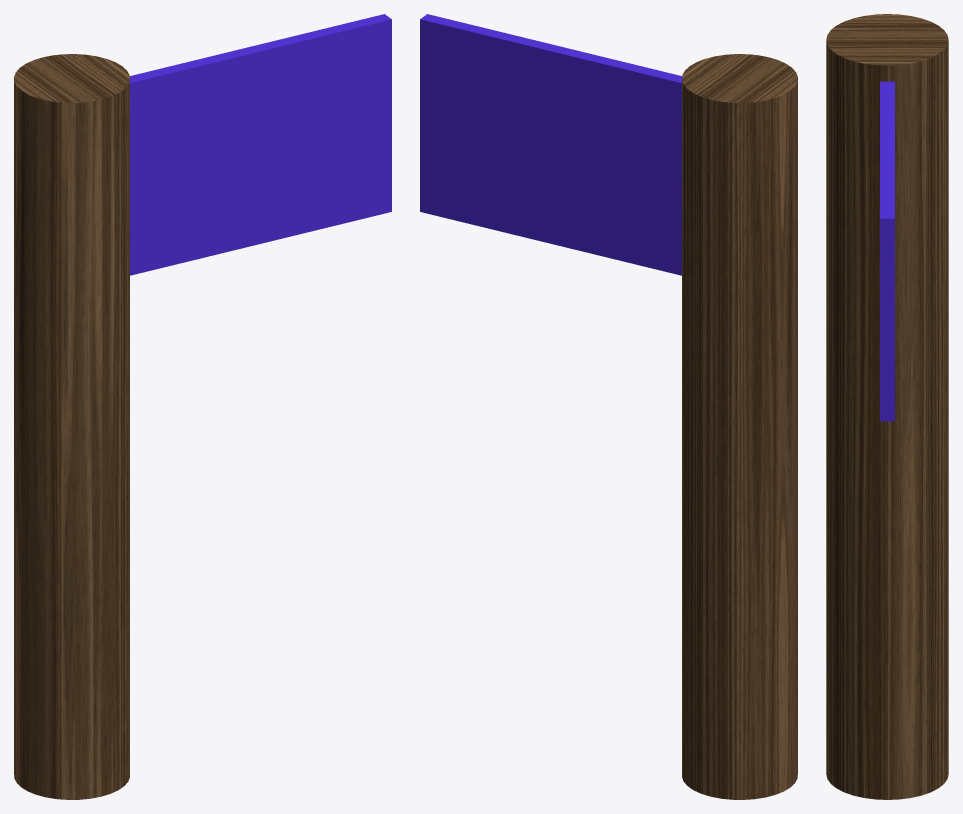
File: FlagBlue.fbx
The picture shows the model from 3 angles, left to right: view 1: azimuth 30°, elevation 25°; view 2: azimuth 150°, elevation 25°; view 3: azimuth 270°, elevation 25°; orthographic projection. The views are drawn at different scales.
Parts seen in each view (by area): view 1: Cylinder, Cube; view 2: Cylinder, Cube; view 3: Cylinder, Cube.
Part boxes in pixels (box(x1,y1,x2,y2)): Cylinder: box(14, 54, 129, 799); Cube: box(129, 14, 391, 275); Cylinder: box(682, 54, 797, 799); Cube: box(420, 14, 682, 275); Cylinder: box(826, 14, 948, 799); Cube: box(880, 81, 894, 421).
Bounding box in the file's own units: 364 × 662 × 100.
Materials: 2 (1 with a texture image).
